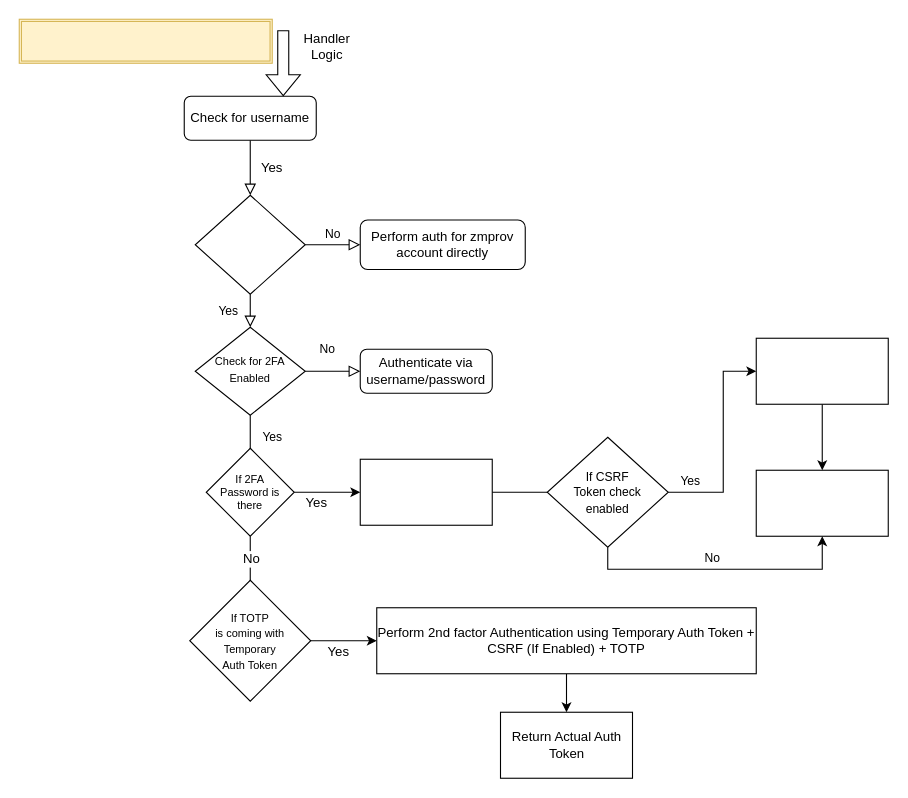
The diagram is 908 pixels wide and 798 high, and some of its shapes have lost their labels. Each missing label, with the box of its shape:
2FA Admin AuthRequest WorkFlow: (18, 18, 272, 63)
CSRF Token will be auto-generated: (755, 337, 888, 404)
If account name is admin: (194, 194, 305, 294)
Perform 1st Authentication: (359, 458, 492, 525)
Return Temporary Auth Token: (755, 469, 888, 536)
